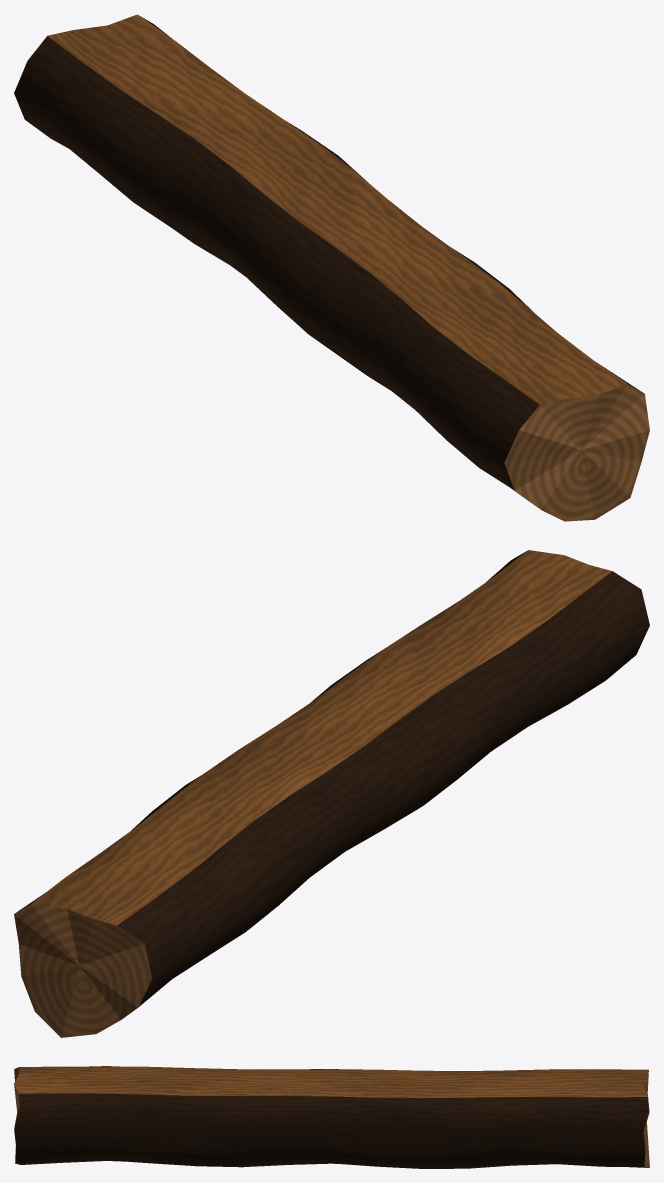
Rendered from SM_Firewood_05.fbx.
3 views of the same model, one above another, from view 1: azimuth 30°, elevation 25°; view 2: azimuth 150°, elevation 25°; view 3: azimuth 270°, elevation 25° (orthographic). The views are drawn at different scales.
Parts seen in each view (by area): view 1: Firewood_Mesh; view 2: Firewood_Mesh; view 3: Firewood_Mesh.
Part boxes in pixels (left/top/right/bottom): Firewood_Mesh: left=14, top=14, right=649, bottom=521; Firewood_Mesh: left=14, top=550, right=649, bottom=1037; Firewood_Mesh: left=14, top=1066, right=649, bottom=1168.
Size of the model in its own units: 0.0679 by 0.0525 by 0.3739.
3 materials, 3 textured.
